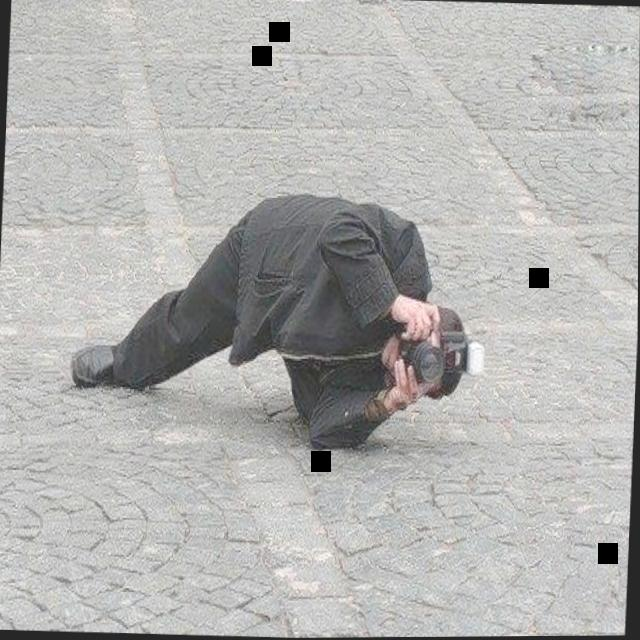Fall-Detected: (54, 158, 498, 482)
